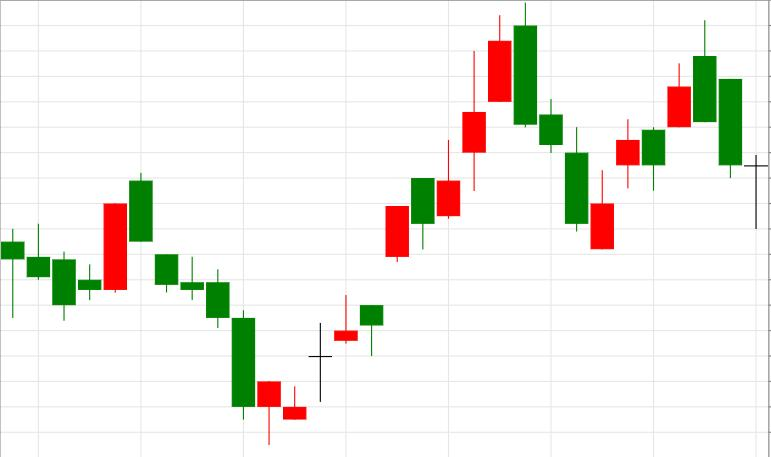bearish_engulfing_fall: (284, 1, 536, 419)
hammer_rise: (130, 172, 280, 445)
